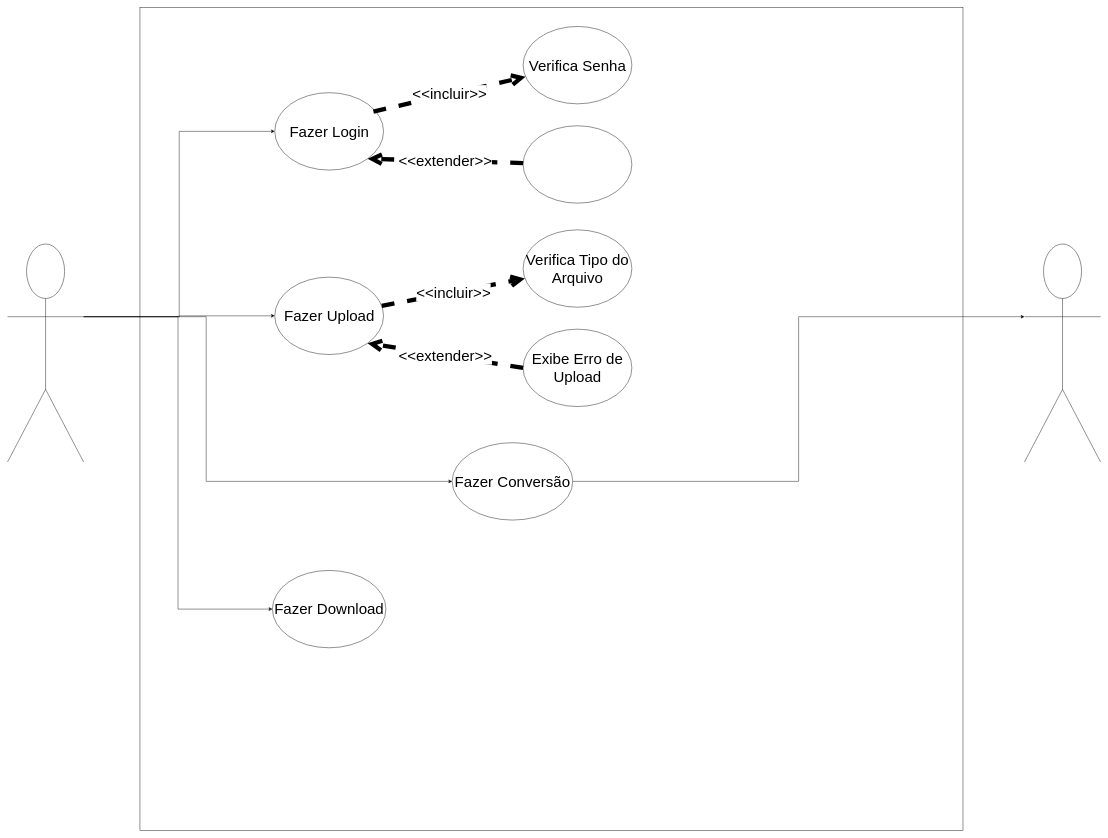
Image size: 1108x838. Some labels were removed from this diagram. The box of each missing label's shape, as (x1, y1, x2, y2) in pixels:
API: (1024, 244, 1101, 462)
Exibe Erro de Login: (523, 125, 632, 203)
Professor: (7, 244, 84, 462)
